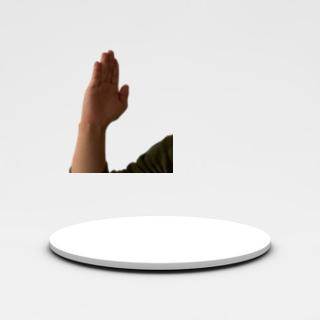RIGHT: (77, 45, 131, 136)
